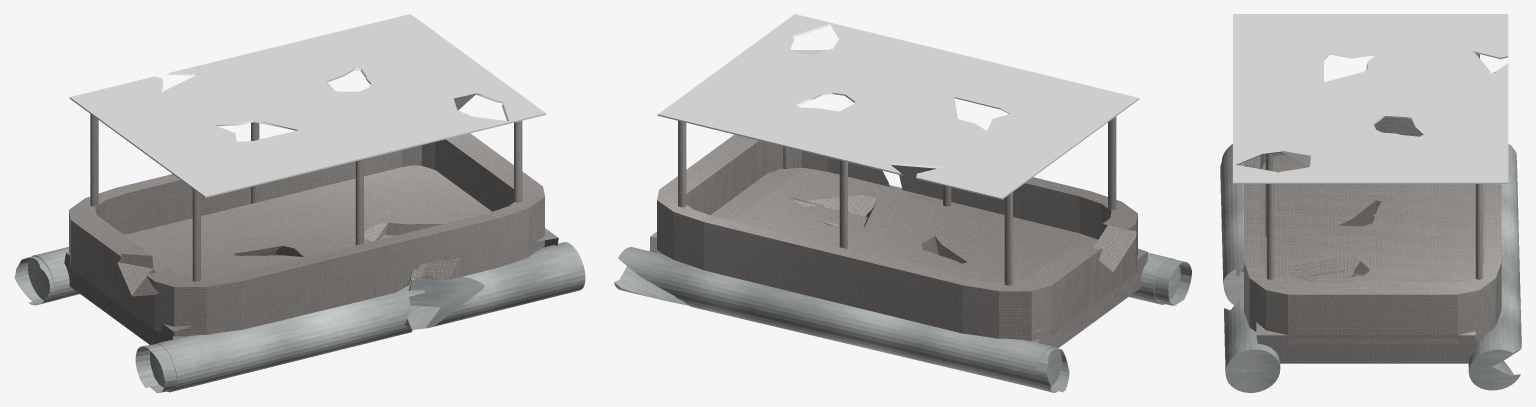
File: Boat with texture 3.fbx
The picture shows the model from 3 angles, left to right: view 1: azimuth 30°, elevation 25°; view 2: azimuth 150°, elevation 25°; view 3: azimuth 270°, elevation 25°; orthographic projection.
Parts seen in each view (by area): view 1: Cube, Roof, Pontoons; view 2: Cube, Roof, Pontoons; view 3: Cube, Roof, Pontoons.
Part boxes in pixels (x1,y1,x2,y2): Cube: (64,114,558,344); Roof: (69,14,546,197); Pontoons: (14,242,585,392); Cube: (649,49,1147,348); Roof: (657,14,1139,199); Pontoons: (614,247,1191,392); Cube: (1244,53,1501,363); Roof: (1233,14,1508,183); Pontoons: (1220,144,1521,392).
Size of the model in its own units: 1082 by 457 by 647.
Materials: 3 (2 with a texture image).
